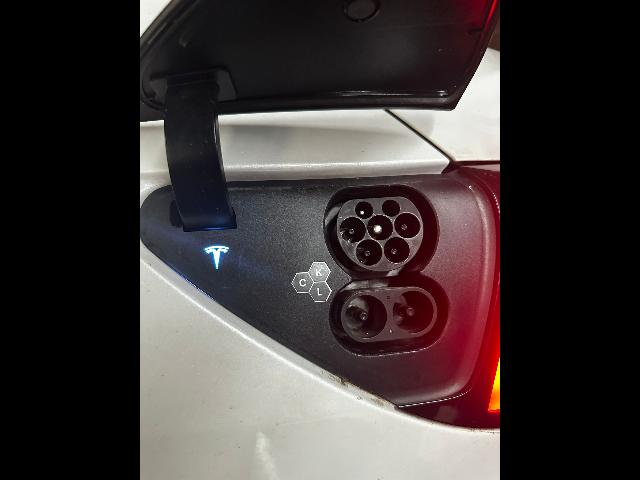inlet: (337, 196, 424, 271)
inlet-above-left: (355, 201, 374, 219)
inlet-above-right: (382, 199, 400, 217)
inlet-below-left: (356, 239, 382, 266)
inlet-below-right: (384, 237, 410, 264)
inlet-circle: (367, 215, 393, 241)
inlet-circle-left: (340, 217, 366, 243)
inlet-circle-right: (394, 212, 421, 238)
inlet-minus: (393, 290, 434, 334)
inlet-plus: (345, 295, 387, 339)
